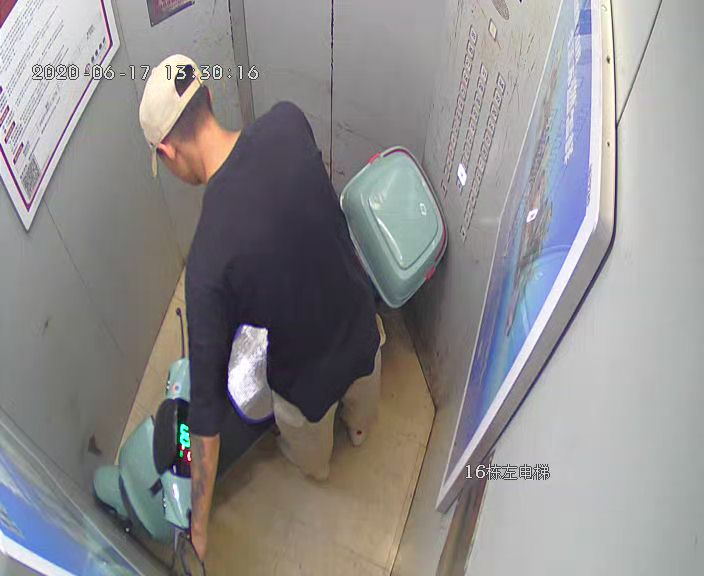Electric-bicycle: (95, 151, 445, 572)
